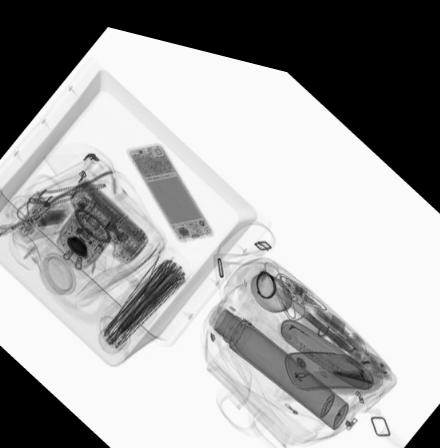Knife: (330, 350, 371, 362)
